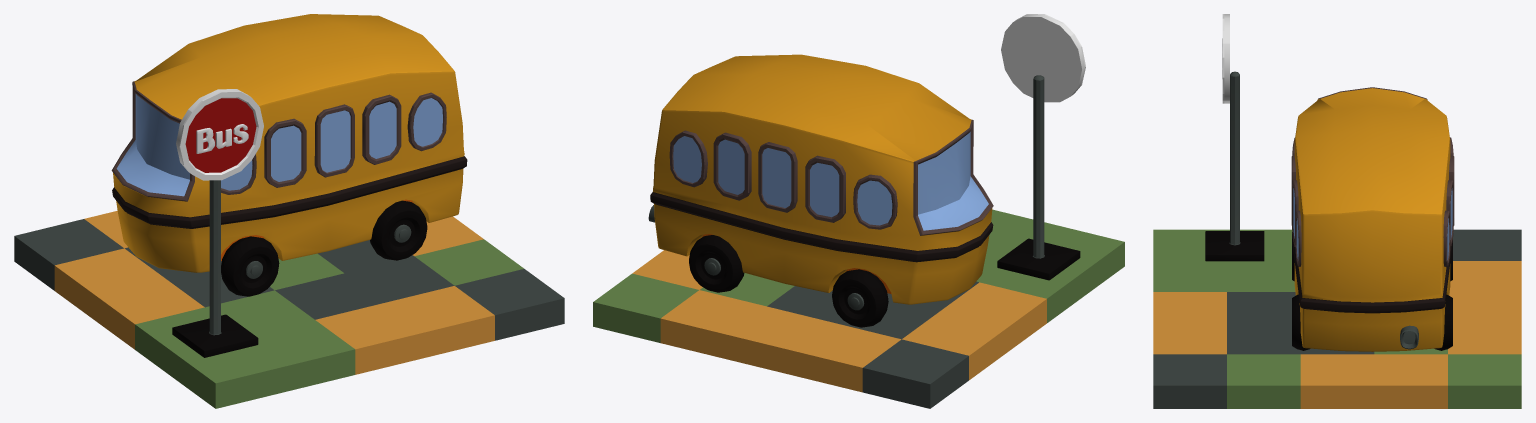
Rendered from 大眾運輸轉運站.fbx.
The picture shows the model from 3 angles, left to right: view 1: azimuth 30°, elevation 25°; view 2: azimuth 150°, elevation 25°; view 3: azimuth 270°, elevation 25°; orthographic projection. The views are drawn at different scales.
Parts seen in each view (by area): view 1: plane_trans, Box144, Box142, Box141, Cylinder035, Box148, Box147, Cylinder039, Box150, Box149, Box143, Box146; view 2: Box144, plane_trans, Box142, Box141, Cylinder040, Box153, Box152, Cylinder041, Box155, Box151, Box154; view 3: plane_trans, Box144, Box141, Box142, Cylinder039, Cylinder041, Box154, Box156, Box155, Box149, Box150.
Boxes of the visible parts, bbox=[...] form: plane_trans: bbox=[14, 210, 564, 408]; Box144: bbox=[111, 14, 467, 272]; Box142: bbox=[176, 89, 263, 180]; Box141: bbox=[172, 180, 258, 357]; Cylinder035: bbox=[221, 236, 279, 296]; Box148: bbox=[314, 104, 354, 177]; Box147: bbox=[264, 118, 306, 187]; Cylinder039: bbox=[370, 200, 427, 260]; Box150: bbox=[362, 94, 401, 164]; Box149: bbox=[407, 92, 446, 151]; Box143: bbox=[196, 124, 248, 153]; Box146: bbox=[221, 154, 256, 194]; Box144: bbox=[650, 54, 993, 304]; plane_trans: bbox=[593, 209, 1124, 408]; Box142: bbox=[1001, 14, 1085, 102]; Box141: bbox=[997, 75, 1080, 280]; Cylinder040: bbox=[832, 269, 888, 327]; Box153: bbox=[758, 142, 797, 212]; Box152: bbox=[805, 155, 845, 222]; Cylinder041: bbox=[689, 235, 744, 292]; Box155: bbox=[713, 132, 751, 200]; Box151: bbox=[853, 174, 897, 229]; Box154: bbox=[669, 130, 707, 187]; plane_trans: bbox=[1153, 229, 1521, 408]; Box144: bbox=[1292, 87, 1452, 351]; Box141: bbox=[1205, 71, 1264, 261]; Box142: bbox=[1222, 14, 1229, 103]; Cylinder039: bbox=[1292, 294, 1310, 350]; Cylinder041: bbox=[1434, 294, 1452, 350]; Box154: bbox=[1443, 210, 1450, 266]; Box156: bbox=[1400, 325, 1418, 349]; Box155: bbox=[1446, 180, 1453, 246]; Box149: bbox=[1295, 210, 1301, 266]; Box150: bbox=[1292, 180, 1298, 246].
Bounding box in the file's own units: 100 × 76.16 × 100.
